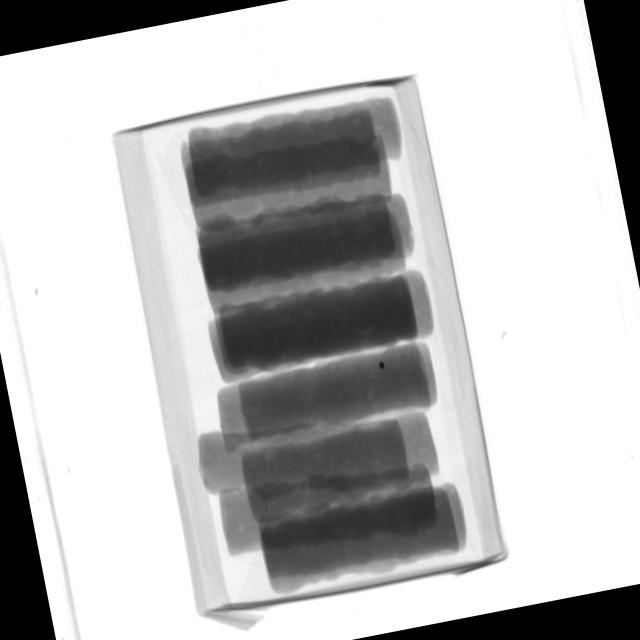ym: (379, 360, 386, 368)
